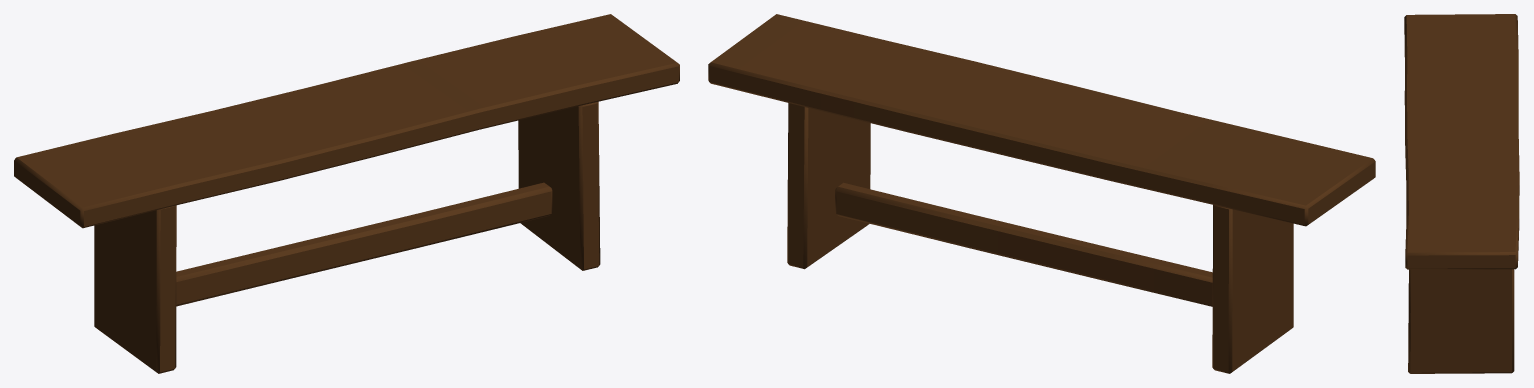
Rendered from bank.glb.
The picture shows the model from 3 angles, left to right: view 1: azimuth 30°, elevation 25°; view 2: azimuth 150°, elevation 25°; view 3: azimuth 270°, elevation 25°; orthographic projection. The views are drawn at different scales.
Parts seen in each view (by area): view 1: bank; view 2: bank; view 3: bank.
Part boxes in pixels (left/top/right/bottom): bank: left=14, top=14, right=679, bottom=373; bank: left=708, top=14, right=1375, bottom=373; bank: left=1404, top=14, right=1519, bottom=373.
Size of the model in its own units: 1.5 by 0.452 by 0.3058.
